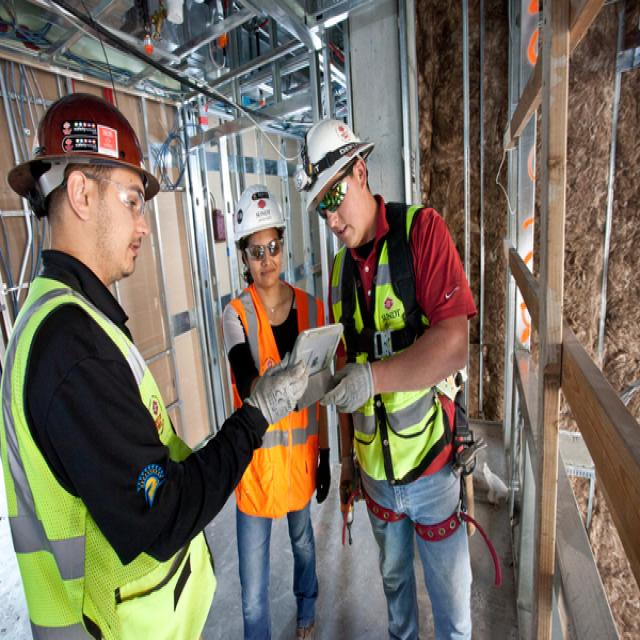Reflective-Jacket: (0, 280, 211, 637), (333, 216, 450, 490), (225, 288, 325, 512)
Safety-Helmet: (5, 85, 164, 208), (299, 109, 374, 203), (230, 178, 287, 242)
